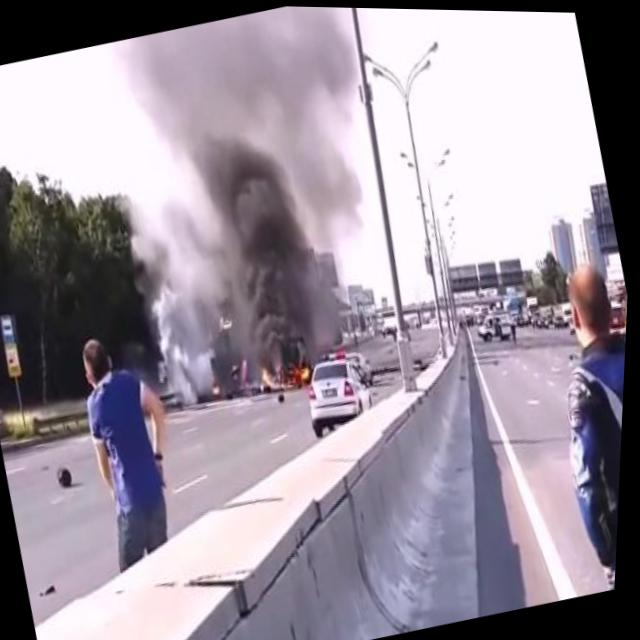fire: (257, 358, 317, 395)
